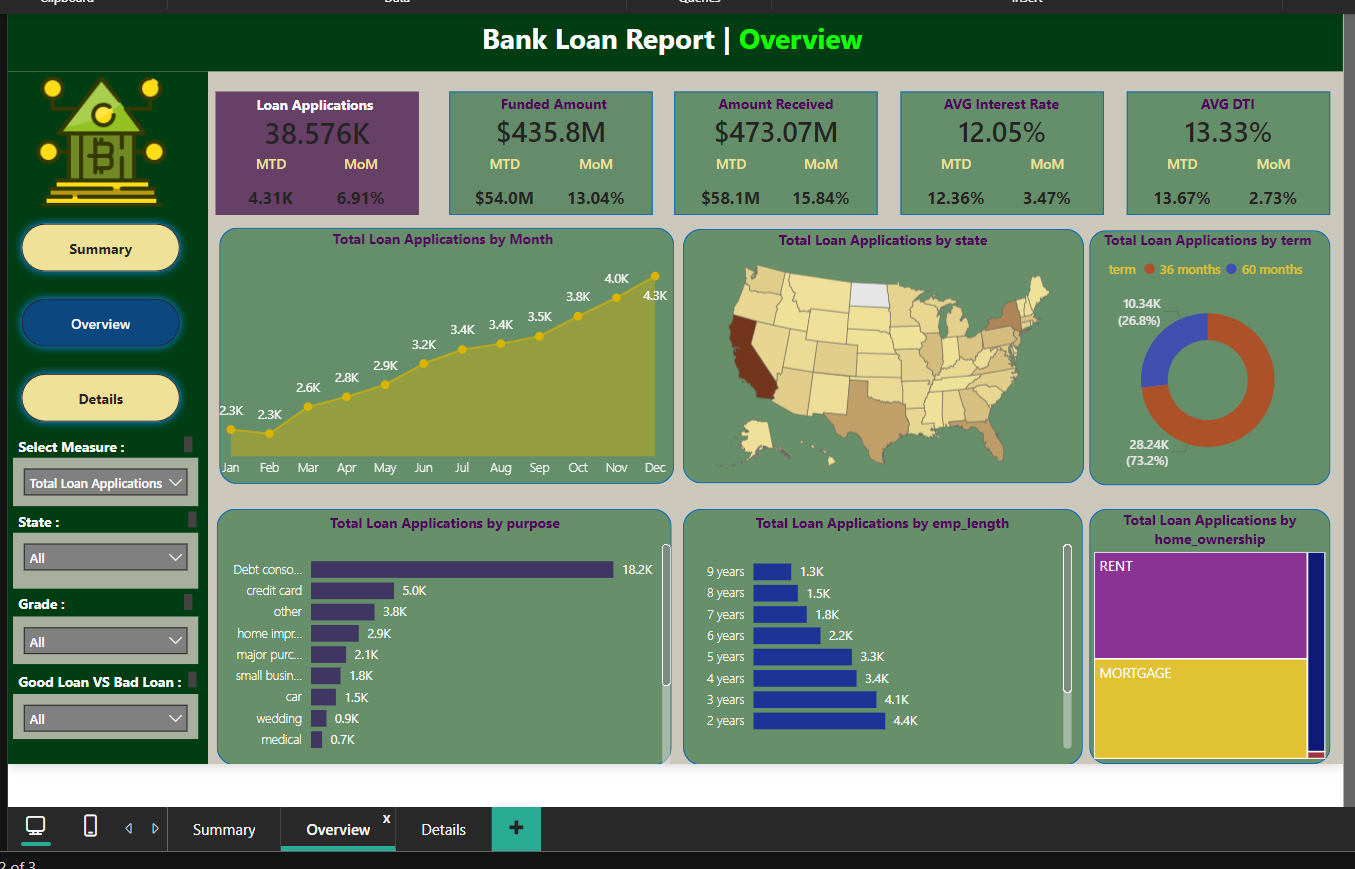

Layout of this report page (visuals, bound fields, positions):
{"tool":"powerbi","page":{"name":"Overview","canvas":[1280,720],"ordinal":1},"visuals":[{"type":"shape","box":[198.5,74.6,195.1,118.5],"z":0,"group":"g1"},{"type":"shape","box":[647.2,474.6,383.5,245.7],"z":0},{"type":"shape","box":[422.7,75,195.1,118.5],"z":500,"group":"g2"},{"type":"shape","box":[639.4,75,195.1,118.5],"z":500,"group":"g3"},{"type":"shape","box":[856,75,195.1,118.5],"z":500,"group":"g4"},{"type":"shape","box":[1072.5,75,195.1,118.5],"z":500,"group":"g5"},{"type":"shape","box":[0,55.1,191.8,664],"z":1000},{"type":"cardVisual","fields":{"Data":["Measurs Table.Total Loan Applications"]},"box":[198.5,74.6,195.1,59.3],"z":1000,"group":"g1"},{"type":"cardVisual","fields":{"Data":["Measurs Table.Total Funded Amount"]},"box":[422.7,75,195.1,59.3],"z":1000,"group":"g2"},{"type":"cardVisual","fields":{"Data":["Measurs Table.Total Amount Received"]},"box":[639.4,75,195.1,59.3],"z":1000,"group":"g3"},{"type":"cardVisual","fields":{"Data":["Measurs Table.AVG Interest Rate"]},"box":[856,75,195.1,59.3],"z":1000,"group":"g4"},{"type":"cardVisual","fields":{"Data":["Measurs Table.AVG DTI"]},"box":[1072.5,75,195.1,59.3],"z":1000,"group":"g5"},{"type":"shape","box":[0,0,1279.9,55],"z":2000},{"type":"textbox","box":[430.2,72.1,186.1,33.2],"z":2000,"group":"g2"},{"type":"textbox","box":[638.9,72.1,194.8,33.2],"z":2000,"group":"g3"},{"type":"textbox","box":[856.1,72.1,193.3,33.2],"z":2000,"group":"g4"},{"type":"textbox","box":[1073.2,72.1,194.8,33.2],"z":2000,"group":"g5"},{"type":"textbox","box":[195.4,73.1,197.7,31.7],"z":2000,"group":"g1"},{"type":"textbox","box":[449.4,0,396.3,58],"z":3000},{"type":"cardVisual","title":"MTD","fields":{"Data":["Measurs Table.MTD Loan Applications"]},"box":[218.3,133.9,67.9,59.3],"z":3000,"group":"g1"},{"type":"cardVisual","title":"MTD","fields":{"Data":["Measurs Table.MTD Funded Amount"]},"box":[442.5,134.2,67.9,59.3],"z":3000,"group":"g2"},{"type":"cardVisual","title":"MTD","fields":{"Data":["Measurs Table.MTD Amount Received"]},"box":[659.2,134.2,67.9,59.3],"z":3000,"group":"g3"},{"type":"cardVisual","title":"MTD","fields":{"Data":["Measurs Table.MTD AVG Interested Rate"]},"box":[875.8,134.2,67.9,59.3],"z":3000,"group":"g4"},{"type":"cardVisual","title":"MTD","fields":{"Data":["Measurs Table.MTD AVG DTI"]},"box":[1092.3,134.2,67.9,59.3],"z":3000,"group":"g5"},{"type":"group","id":"g1","title":"Loan Application","box":[195.4,73.1,199,119.9],"z":4000},{"type":"cardVisual","title":"MoM","fields":{"Data":["Measurs Table.MOM Loan Application"]},"box":[304.7,133.9,67.9,59.3],"z":4000,"group":"g1"},{"type":"cardVisual","title":"MoM","fields":{"Data":["Measurs Table.MOM Funded Amount"]},"box":[528.9,134.2,67.9,59.3],"z":4000,"group":"g2"},{"type":"cardVisual","title":"MoM","fields":{"Data":["Measurs Table.MOM Amount Received"]},"box":[745.6,134.2,67.9,59.3],"z":4000,"group":"g3"},{"type":"cardVisual","title":"MoM","fields":{"Data":["Measurs Table.MOM AVG Intrest Rate"]},"box":[962.2,134.2,67.9,59.3],"z":4000,"group":"g4"},{"type":"cardVisual","title":"MoM","fields":{"Data":["Measurs Table.MOM AVG DTI"]},"box":[1178.7,134.2,67.9,59.3],"z":4000,"group":"g5"},{"type":"group","id":"g2","title":"Funded Amount","box":[422.7,72.1,194.8,121.2],"z":5000},{"type":"group","id":"g3","title":"Amount Received","box":[638.9,72.1,195.6,121.4],"z":6000},{"type":"group","id":"g4","title":"AVG Interested Rate","box":[856,72.1,195.1,121.4],"z":7000},{"type":"group","id":"g5","title":"AVG DTI","box":[1072.5,72.1,195.5,121.4],"z":8000},{"type":"slicer","fields":{"Values":["financial_loan.address_state"]},"box":[4.8,497.4,177.4,53.9],"z":9000},{"type":"textbox","box":[4.8,472.2,181,25.2],"z":10000},{"type":"slicer","fields":{"Values":["financial_loan.grade"]},"box":[4.8,577.7,177.4,45.5],"z":11000},{"type":"textbox","box":[4.8,551.3,177.4,26.4],"z":12000},{"type":"slicer","fields":{"Values":["financial_loan.Good Loan vs Bad Loan"]},"box":[4.8,652,177.4,43.1],"z":13000},{"type":"textbox","box":[4.8,625.6,181,26.4],"z":14000},{"type":"slicer","fields":{"Values":["Select Measure.Select Measure"]},"box":[4.8,425.5,177.4,46.7],"z":15000},{"type":"textbox","box":[4.8,400.3,177.4,25.2],"z":16000},{"type":"shape","box":[647.6,206.4,384.5,243.9],"z":17000},{"type":"shapeMap","title":"Total Loan Applications by state","fields":{"Value":["Measurs Table.Total Loan Applications"],"Category":["financial_loan.address_state"]},"box":[647.2,207.3,383.5,242.1],"z":18000},{"type":"shape","box":[1036.7,207.3,231.3,244.5],"z":19000},{"type":"donutChart","fields":{"Y":["Measurs Table.Total Loan Applications"],"Category":["financial_loan.term"]},"box":[1036.7,207.3,227.7,242.1],"z":20000},{"type":"shape","box":[200.1,474.7,436.3,245.7],"z":21000},{"type":"shape","box":[202.5,204.9,436.3,245.7],"z":22000},{"type":"lineChart","fields":{"Y":["Measurs Table.Total Loan Applications"],"Category":["Date Table.Month"]},"box":[199,206.1,436.3,242.1],"z":23000},{"type":"barChart","fields":{"Y":["Measurs Table.Total Loan Applications"],"Category":["financial_loan.emp_length"]},"box":[656.8,478.2,363.1,226.5],"z":24000},{"type":"barChart","fields":{"Y":["Measurs Table.Total Loan Applications"],"Category":["financial_loan.purpose"]},"box":[202.5,478.2,432.7,242.1],"z":25000},{"type":"shape","box":[1036.7,474.6,231.3,244.5],"z":26000},{"type":"treemap","fields":{"Values":["Measurs Table.Total Loan Applications"],"Group":["financial_loan.home_ownership"]},"box":[1036.7,475.8,231.3,243.3],"z":27000},{"type":"pageNavigator","box":[4.8,193,169,207.3],"z":27001},{"type":"image","box":[16.8,55.1,146.2,134.2],"z":27002}]}

Visuals, with their boxes on the page's 1280x720 design canvas (x1, y1, x2, y2). These are canvas units, not pixel positions in the 1355x869 screenshot, which may show the page scaled, cropped or inside an application window:
shape: [198, 75, 394, 193]
shape: [647, 475, 1031, 720]
shape: [423, 75, 618, 194]
shape: [639, 75, 834, 194]
shape: [856, 75, 1051, 194]
shape: [1072, 75, 1268, 194]
shape: [0, 55, 192, 719]
cardVisual - Measurs Table.Total Loan Applications: [198, 75, 394, 134]
cardVisual - Measurs Table.Total Funded Amount: [423, 75, 618, 134]
cardVisual - Measurs Table.Total Amount Received: [639, 75, 834, 134]
cardVisual - Measurs Table.AVG Interest Rate: [856, 75, 1051, 134]
cardVisual - Measurs Table.AVG DTI: [1072, 75, 1268, 134]
shape: [0, 0, 1280, 55]
textbox: [430, 72, 616, 105]
textbox: [639, 72, 834, 105]
textbox: [856, 72, 1049, 105]
textbox: [1073, 72, 1268, 105]
textbox: [195, 73, 393, 105]
textbox: [449, 0, 846, 58]
"MTD" cardVisual: [218, 134, 286, 193]
"MTD" cardVisual: [442, 134, 510, 194]
"MTD" cardVisual: [659, 134, 727, 194]
"MTD" cardVisual: [876, 134, 944, 194]
"MTD" cardVisual: [1092, 134, 1160, 194]
"Loan Application" group: [195, 73, 394, 193]
"MoM" cardVisual: [305, 134, 373, 193]
"MoM" cardVisual: [529, 134, 597, 194]
"MoM" cardVisual: [746, 134, 814, 194]
"MoM" cardVisual: [962, 134, 1030, 194]
"MoM" cardVisual: [1179, 134, 1247, 194]
"Funded Amount" group: [423, 72, 618, 193]
"Amount Received" group: [639, 72, 834, 194]
"AVG Interested Rate" group: [856, 72, 1051, 194]
"AVG DTI" group: [1072, 72, 1268, 194]
slicer - financial_loan.address_state: [5, 497, 182, 551]
textbox: [5, 472, 186, 497]
slicer - financial_loan.grade: [5, 578, 182, 623]
textbox: [5, 551, 182, 578]
slicer - financial_loan.Good Loan vs Bad Loan: [5, 652, 182, 695]
textbox: [5, 626, 186, 652]
slicer - Select Measure.Select Measure: [5, 426, 182, 472]
textbox: [5, 400, 182, 426]
shape: [648, 206, 1032, 450]
"Total Loan Applications by state" shapeMap: [647, 207, 1031, 449]
shape: [1037, 207, 1268, 452]
donutChart - Measurs Table.Total Loan Applications x financial_loan.term: [1037, 207, 1264, 449]
shape: [200, 475, 636, 720]
shape: [202, 205, 639, 451]
lineChart - Measurs Table.Total Loan Applications x Date Table.Month: [199, 206, 635, 448]
barChart - Measurs Table.Total Loan Applications x financial_loan.emp_length: [657, 478, 1020, 705]
barChart - Measurs Table.Total Loan Applications x financial_loan.purpose: [202, 478, 635, 720]
shape: [1037, 475, 1268, 719]
treemap - Measurs Table.Total Loan Applications x financial_loan.home_ownership: [1037, 476, 1268, 719]
pageNavigator: [5, 193, 174, 400]
image: [17, 55, 163, 189]
